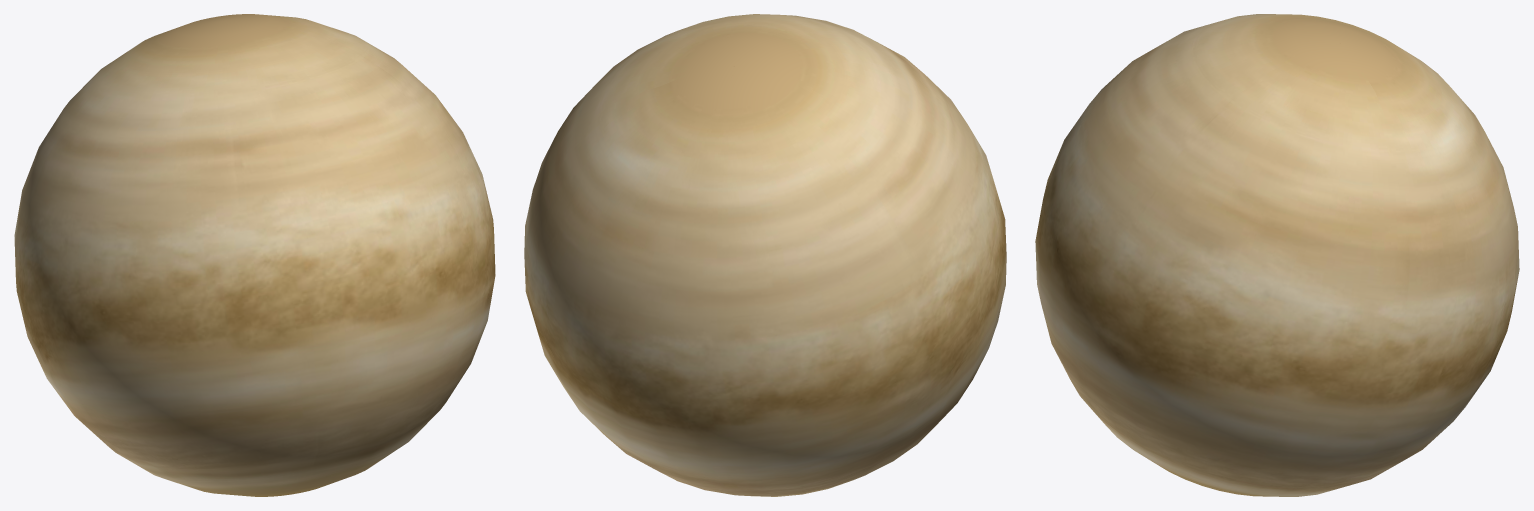
3 views of the same model, side by side, from view 1: azimuth 30°, elevation 25°; view 2: azimuth 150°, elevation 25°; view 3: azimuth 270°, elevation 25° (orthographic).
Visible parts, largest first — view 1: Mercury; view 2: Mercury; view 3: Mercury.
Part boxes in pixels (x1,y1,x2,y2): Mercury: (14, 14, 495, 496); Mercury: (524, 14, 1006, 496); Mercury: (1035, 14, 1519, 496).
Size of the model in its own units: 16.06 by 16.02 by 16.02.
